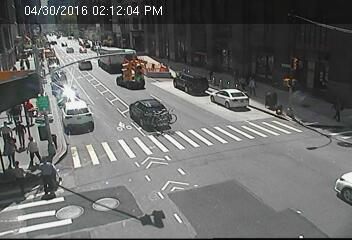neg: (57, 156, 91, 201), (125, 189, 155, 230), (291, 128, 319, 166), (146, 166, 173, 203), (253, 90, 277, 122), (100, 112, 123, 142), (274, 78, 296, 107), (31, 112, 51, 139), (277, 49, 297, 76), (148, 107, 167, 132), (171, 39, 190, 63), (54, 83, 73, 107), (153, 39, 170, 62), (72, 56, 87, 76), (24, 34, 38, 53), (113, 34, 126, 52), (46, 63, 59, 80), (110, 70, 122, 87), (143, 60, 155, 76), (71, 39, 81, 52), (80, 83, 90, 96), (57, 40, 64, 50)
pos: (29, 155, 62, 199), (3, 161, 30, 197), (7, 121, 31, 153), (19, 136, 42, 166), (329, 96, 351, 126), (245, 78, 260, 98), (232, 69, 246, 88), (205, 68, 217, 84), (17, 57, 29, 72), (21, 57, 32, 72)
